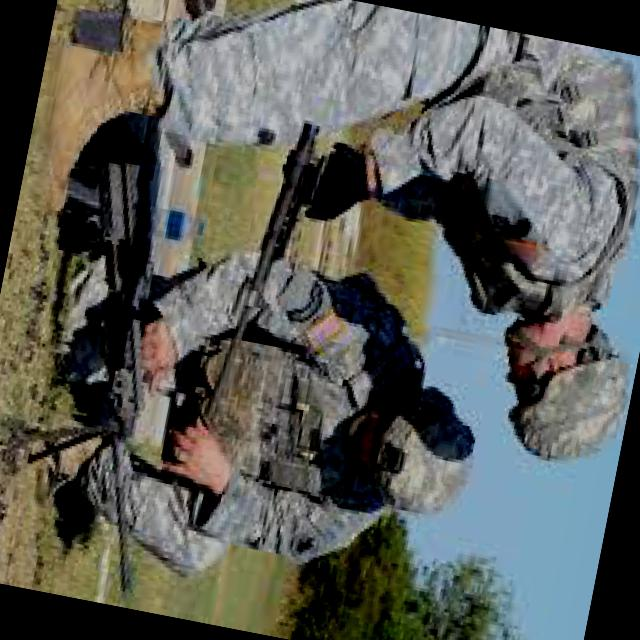long weapon: (197, 118, 353, 450), (73, 142, 152, 584)
